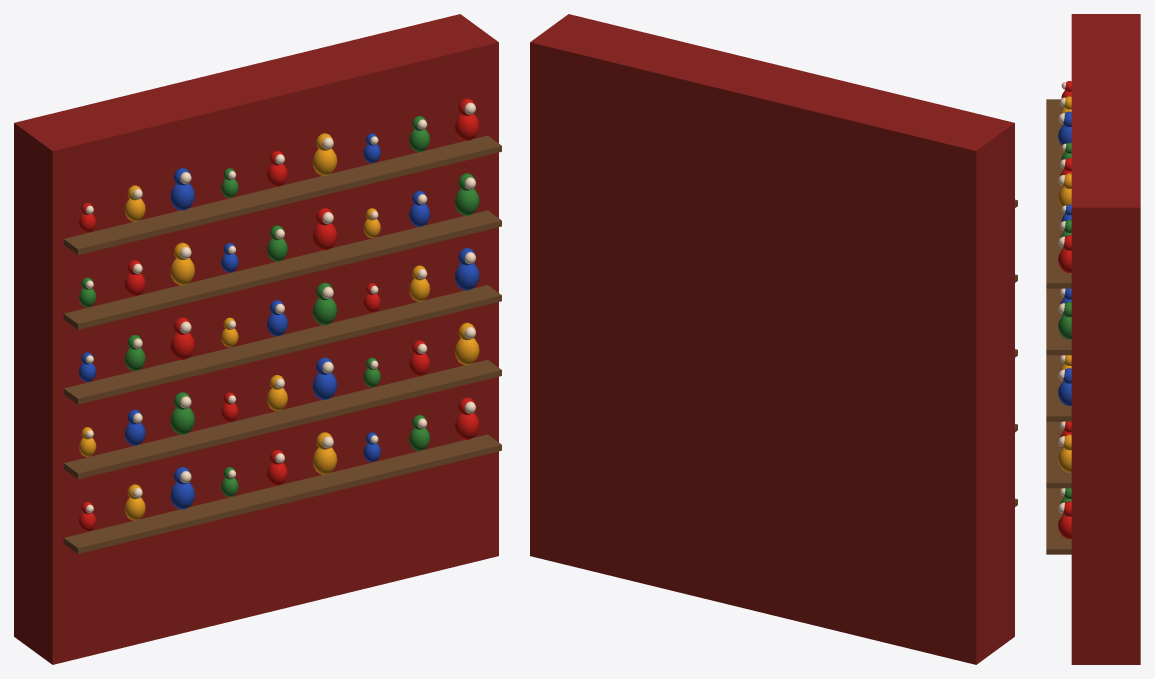
Rendered from doll_shelf.glb.
3 views of the same model, side by side, from view 1: azimuth 30°, elevation 25°; view 2: azimuth 150°, elevation 25°; view 3: azimuth 270°, elevation 25° (orthographic). The views are drawn at different scales.
Parts seen in each view (by area): view 1: doll_shelf; view 2: doll_shelf; view 3: doll_shelf.
Part boxes in pixels (bbox=[...]): doll_shelf: bbox=[14, 14, 501, 664]; doll_shelf: bbox=[530, 14, 1017, 664]; doll_shelf: bbox=[1046, 14, 1140, 664].
Size of the model in its own units: 2 by 2.2 by 0.41.
1 material, 1 textured.
